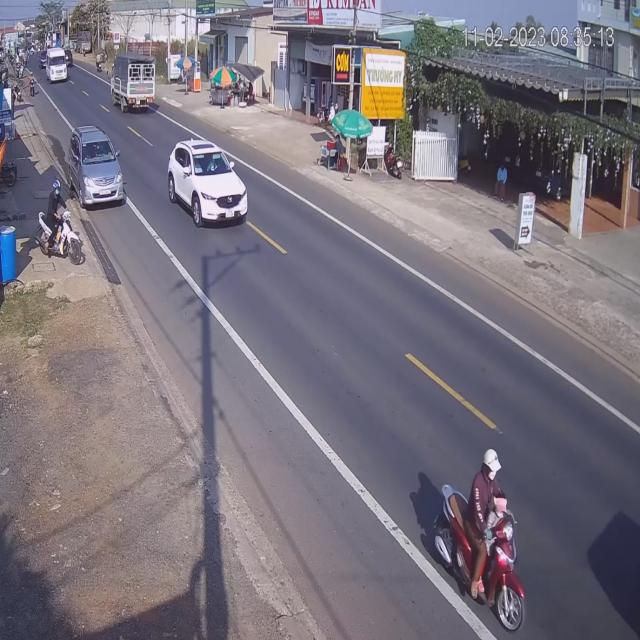bus: (46, 50, 67, 85)
car: (169, 142, 250, 232), (67, 128, 125, 211)
motorbike: (438, 450, 525, 634)
truck: (110, 51, 156, 114)
